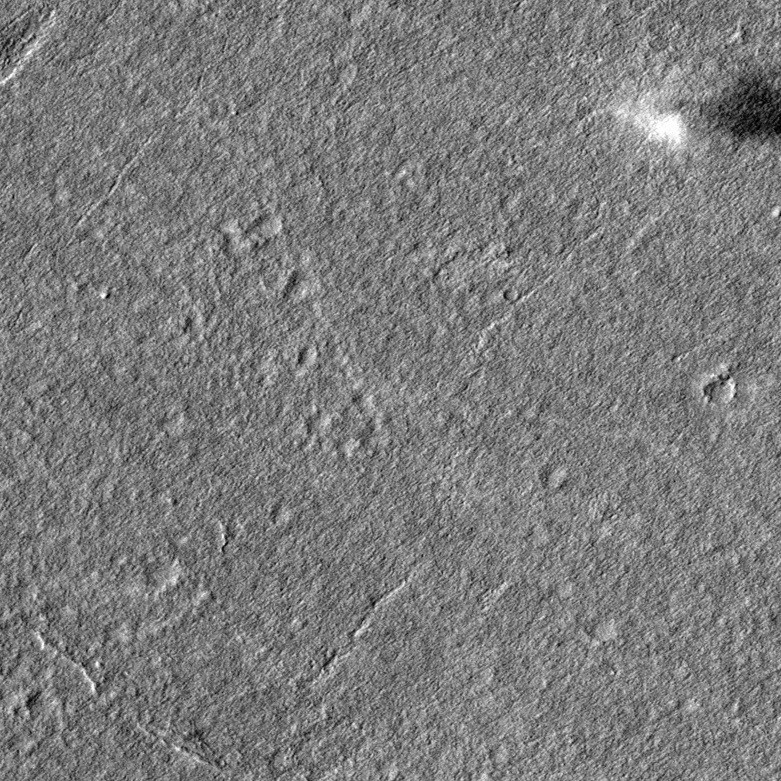dust_devil: (605, 63, 781, 157)
